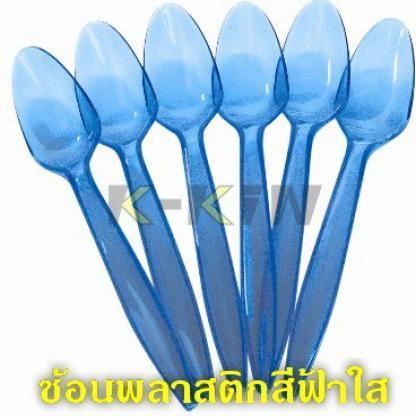Others: (13, 0, 415, 408)
